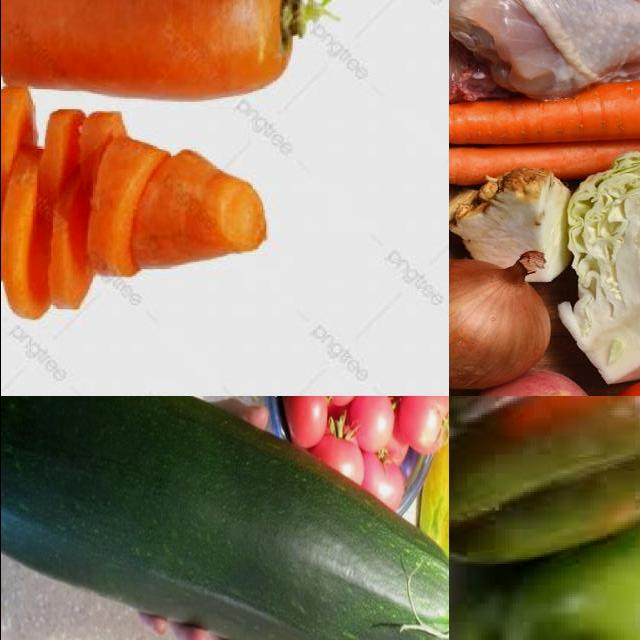bell_pepper: (449, 397, 640, 579), (449, 512, 640, 640)
cabbage: (557, 145, 640, 387)
carrot: (1, 1, 336, 107), (449, 73, 640, 148), (449, 127, 640, 191)
onion: (449, 254, 572, 395)
tomato: (397, 397, 449, 460), (344, 397, 404, 448)
zucchini: (1, 436, 449, 640), (420, 397, 449, 583)
